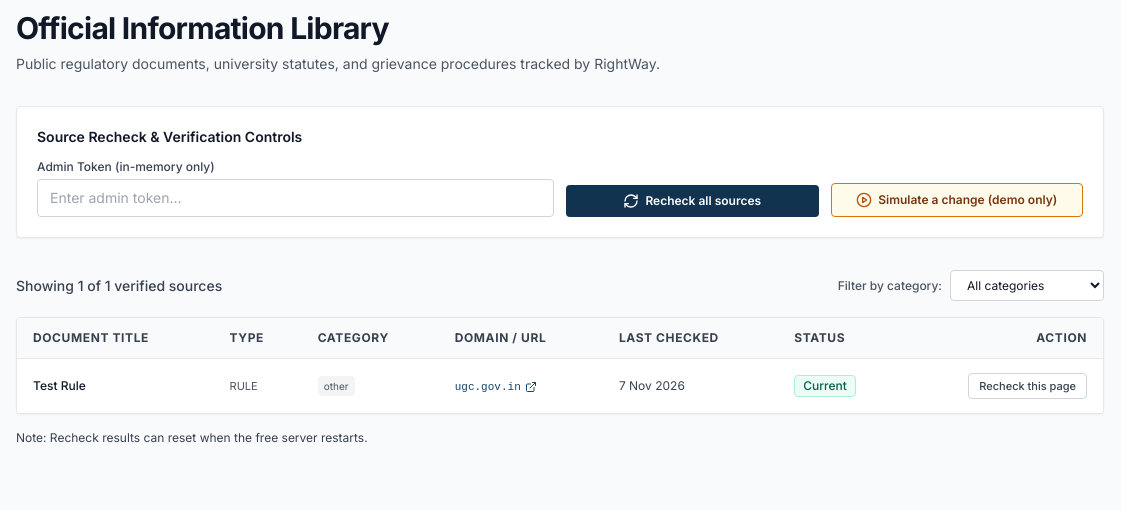
it: Step 4: Sources and About Pages › displays simulated change with "Simulated" label
This screenshot has width=1121, height=510.
Check: the text "Test Rule" is shown, box [33, 378, 86, 393]
Type "my-secret-token" into the password field labelled "Admin Token (in-memory only)".
click(296, 198); type("my-secret-token")  # box [37, 179, 554, 217]
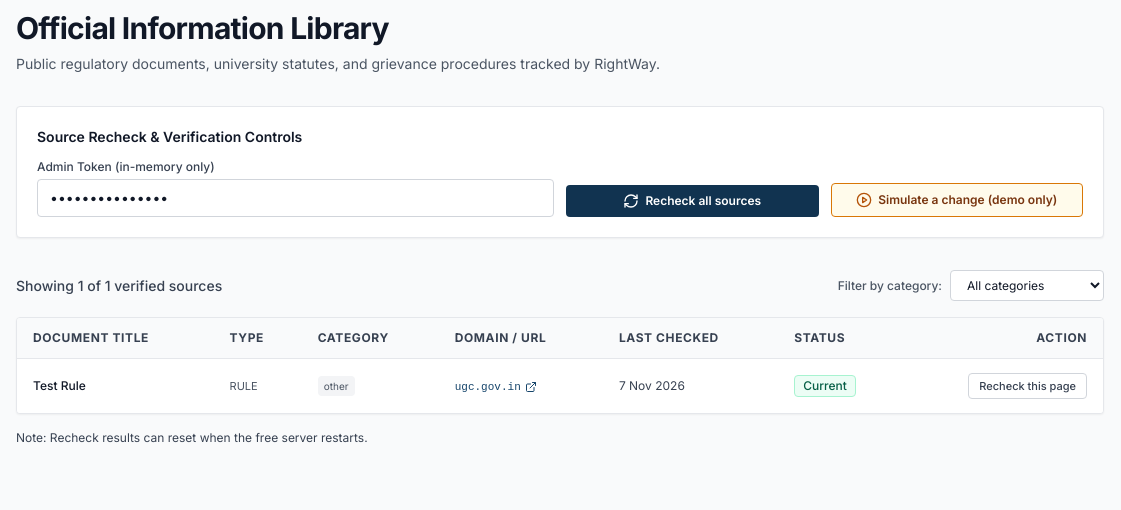
Click the button "Simulate a change (demo only)".
click(957, 200)  # box [830, 183, 1083, 217]
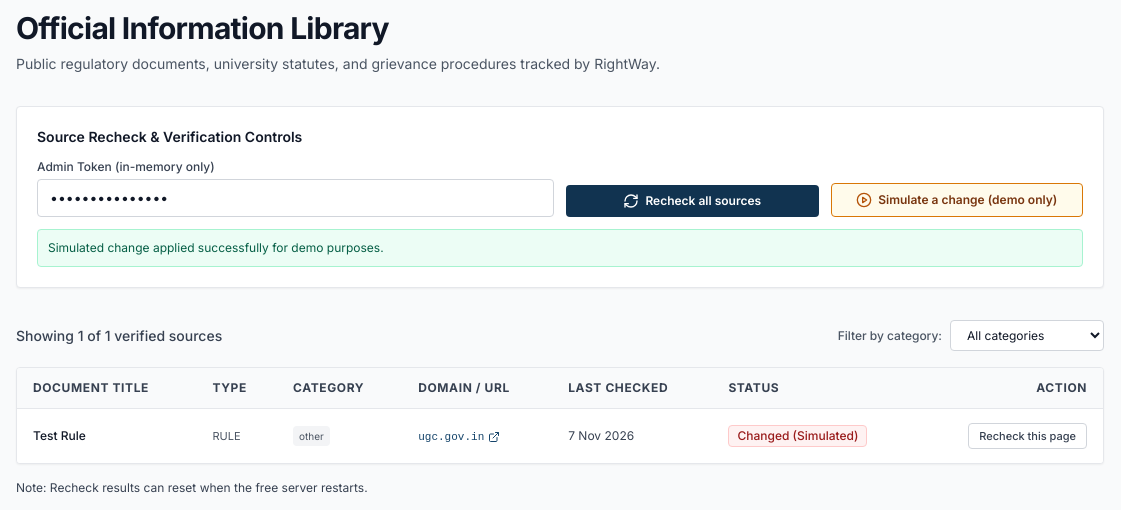
Check: the text "Changed (Simulated)" is shown, box [728, 425, 867, 447]
